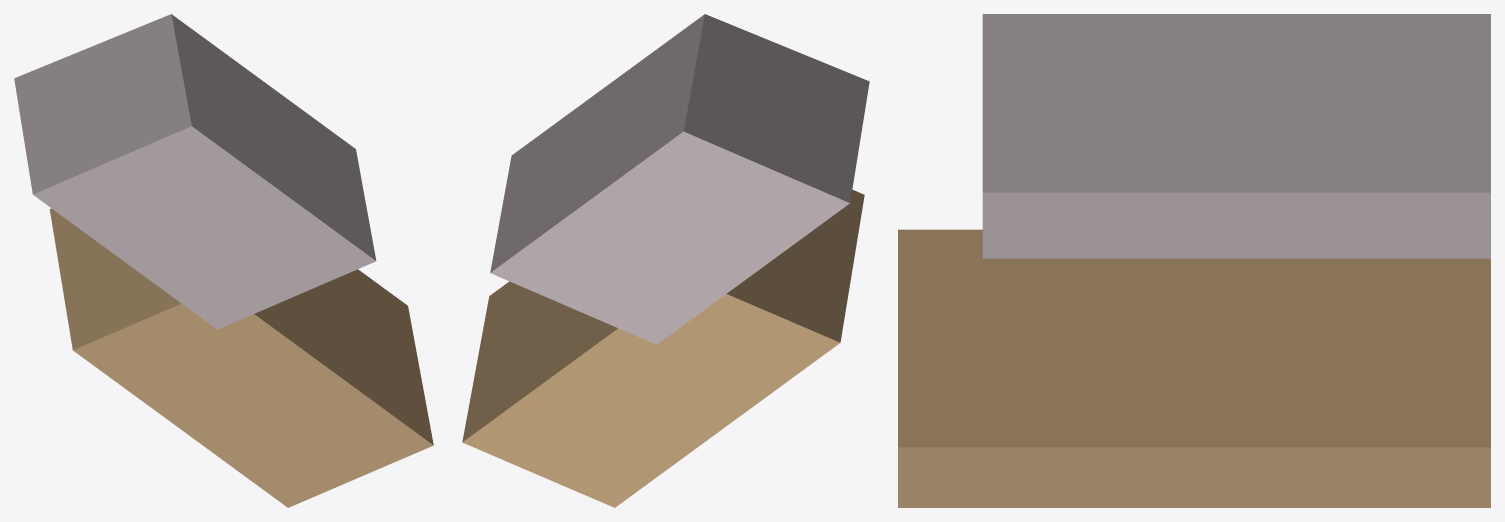
3 renders of one model, left to right at view 1: azimuth 30°, elevation 25°; view 2: azimuth 150°, elevation 25°; view 3: azimuth 270°, elevation 25°, orthographic. The views are drawn at different scales.
Visible parts, largest first — view 1: 0_0_3_2_0_0_1_2_0_3; view 2: 0_0_3_2_0_0_1_2_0_3; view 3: 0_0_3_2_0_0_1_2_0_3.
Part boxes in pixels (box(x1,y1,x2,y2)): 0_0_3_2_0_0_1_2_0_3: box(14, 14, 433, 507); 0_0_3_2_0_0_1_2_0_3: box(462, 14, 869, 507); 0_0_3_2_0_0_1_2_0_3: box(898, 14, 1490, 507).
Bounding box in the file's own units: 11.5 × 16.8 × 21.
